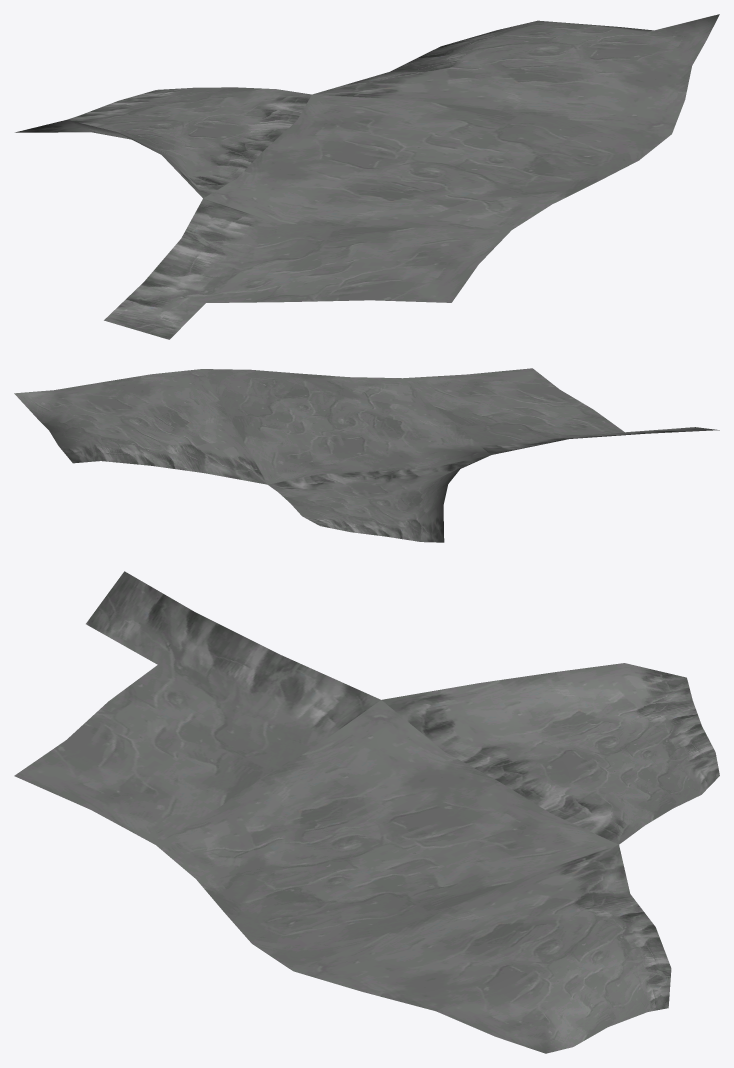
The model's file is SWORDLIGHT20_PS-AREA03_148.fbx.
The picture shows the model from 3 angles, top to bottom: view 1: azimuth 30°, elevation 25°; view 2: azimuth 150°, elevation 25°; view 3: azimuth 270°, elevation 25°; orthographic projection. The views are drawn at different scales.
Visible parts, largest first — view 1: SWORDLIGHT20_PS-AREA03_148; view 2: SWORDLIGHT20_PS-AREA03_148; view 3: SWORDLIGHT20_PS-AREA03_148.
Boxes of the visible parts, bbox=[...] form: SWORDLIGHT20_PS-AREA03_148: bbox=[15, 14, 719, 339]; SWORDLIGHT20_PS-AREA03_148: bbox=[14, 368, 719, 542]; SWORDLIGHT20_PS-AREA03_148: bbox=[14, 571, 719, 1053].
Bounding box in the file's own units: 216196 × 13386 × 138725.
4 materials, 4 textured.
